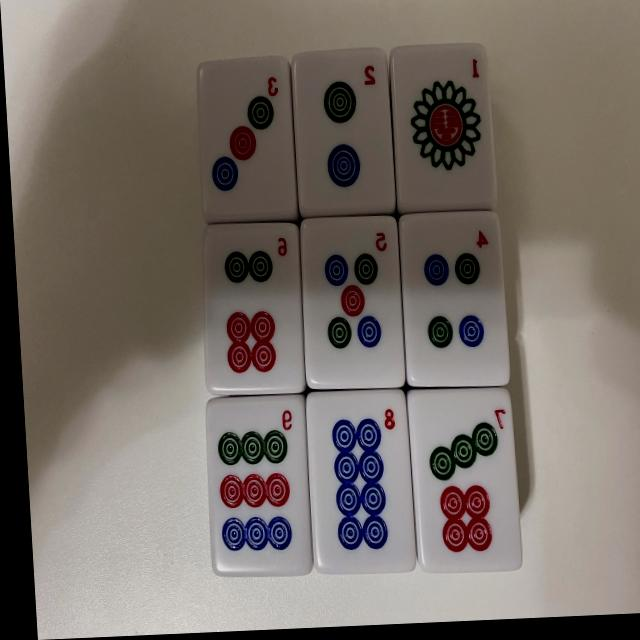t1: (390, 43, 495, 211)
t2: (291, 48, 395, 214)
t3: (196, 59, 297, 222)
t4: (399, 212, 509, 386)
t5: (299, 216, 406, 391)
t6: (203, 223, 305, 392)
t7: (409, 389, 521, 570)
t8: (307, 392, 415, 573)
t9: (204, 395, 313, 575)
